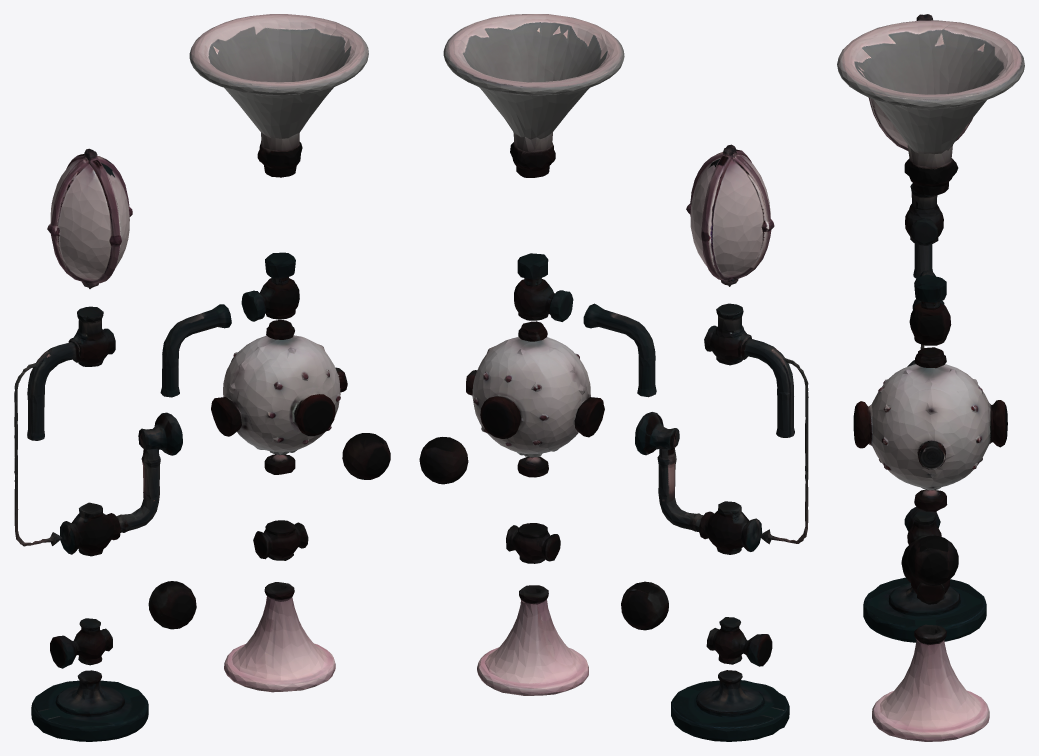
Rendered from GenaratorModelReduced-textured.glb.
The picture shows the model from 3 angles, left to right: view 1: azimuth 30°, elevation 25°; view 2: azimuth 150°, elevation 25°; view 3: azimuth 270°, elevation 25°; orthographic projection. The views are drawn at different scales.
Bounding box in the file's own units: 1.27 × 2 × 0.5161.
Materials: 1 (1 with a texture image).
